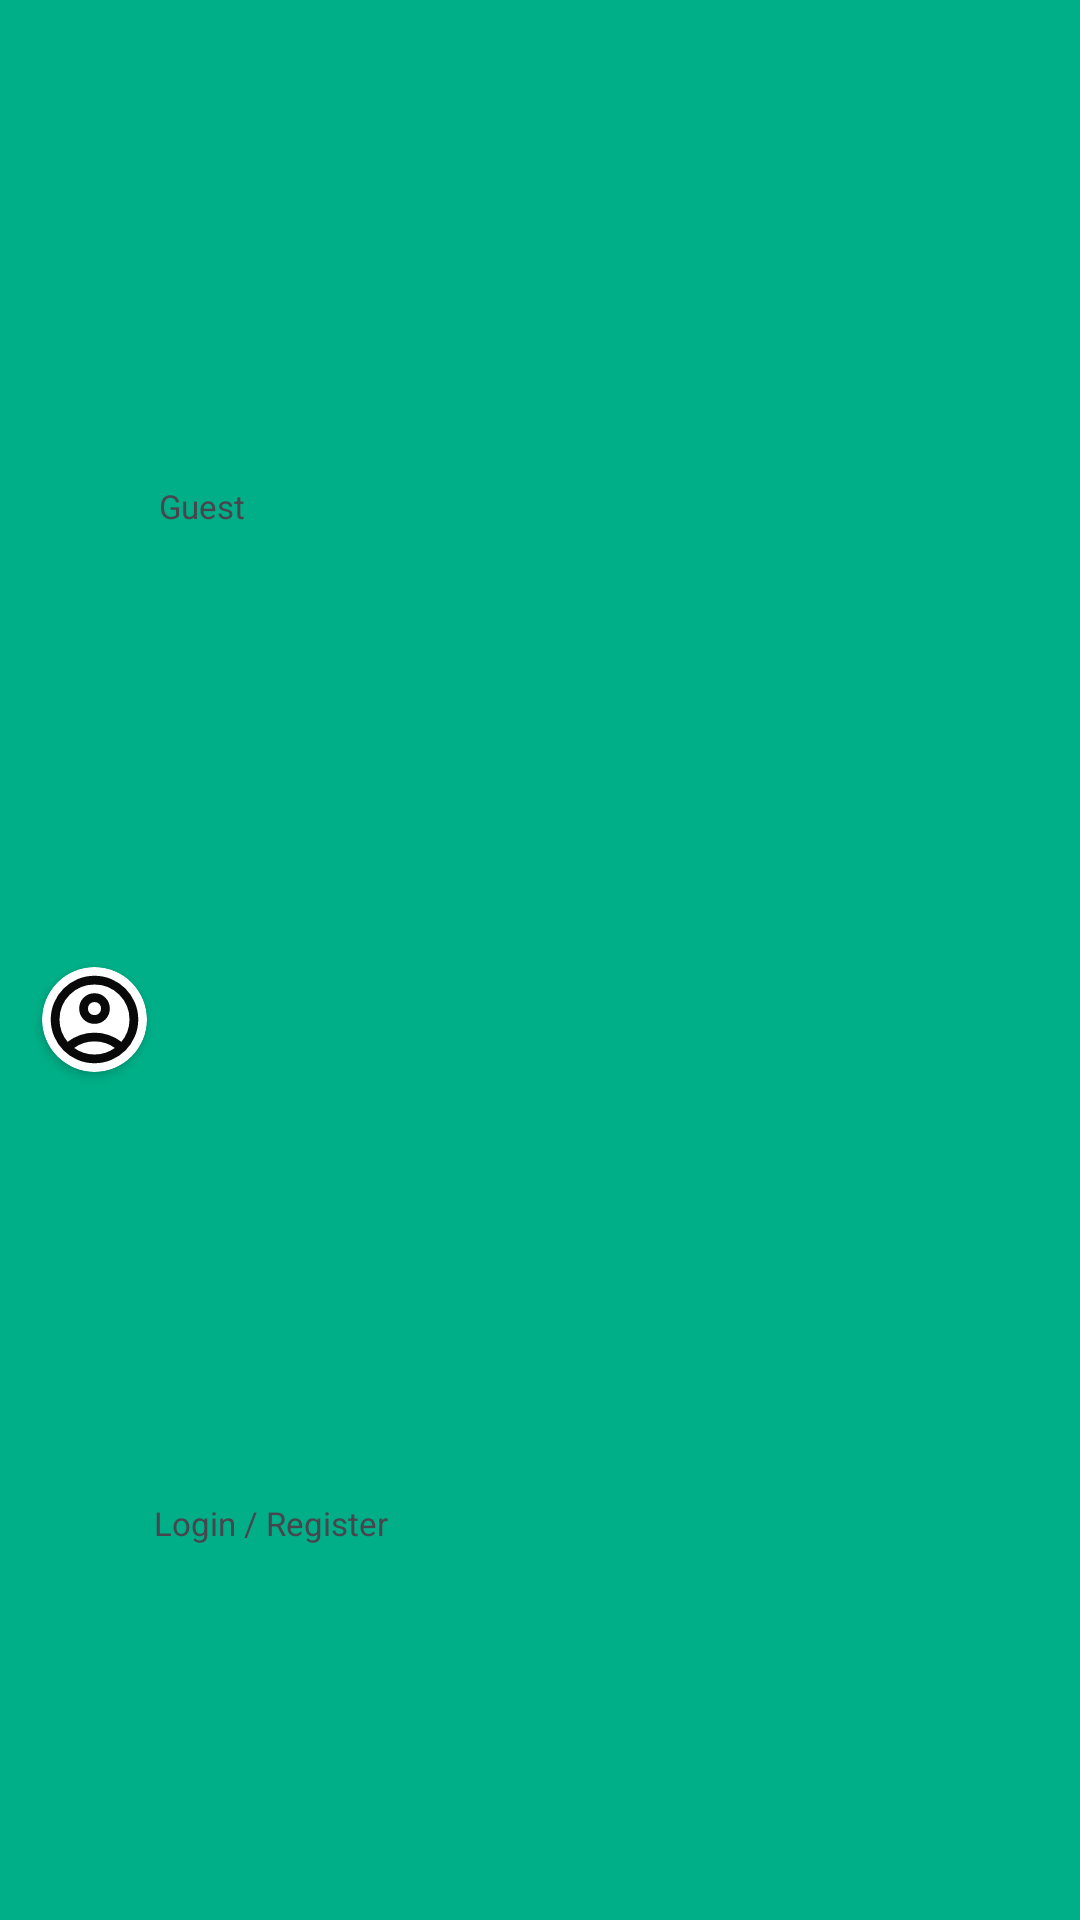

Screen size 1080w x 1920h. Icon name, then its box in pixels as (x1, y1, x2, y2):
account circle: (42, 967, 147, 1072)
